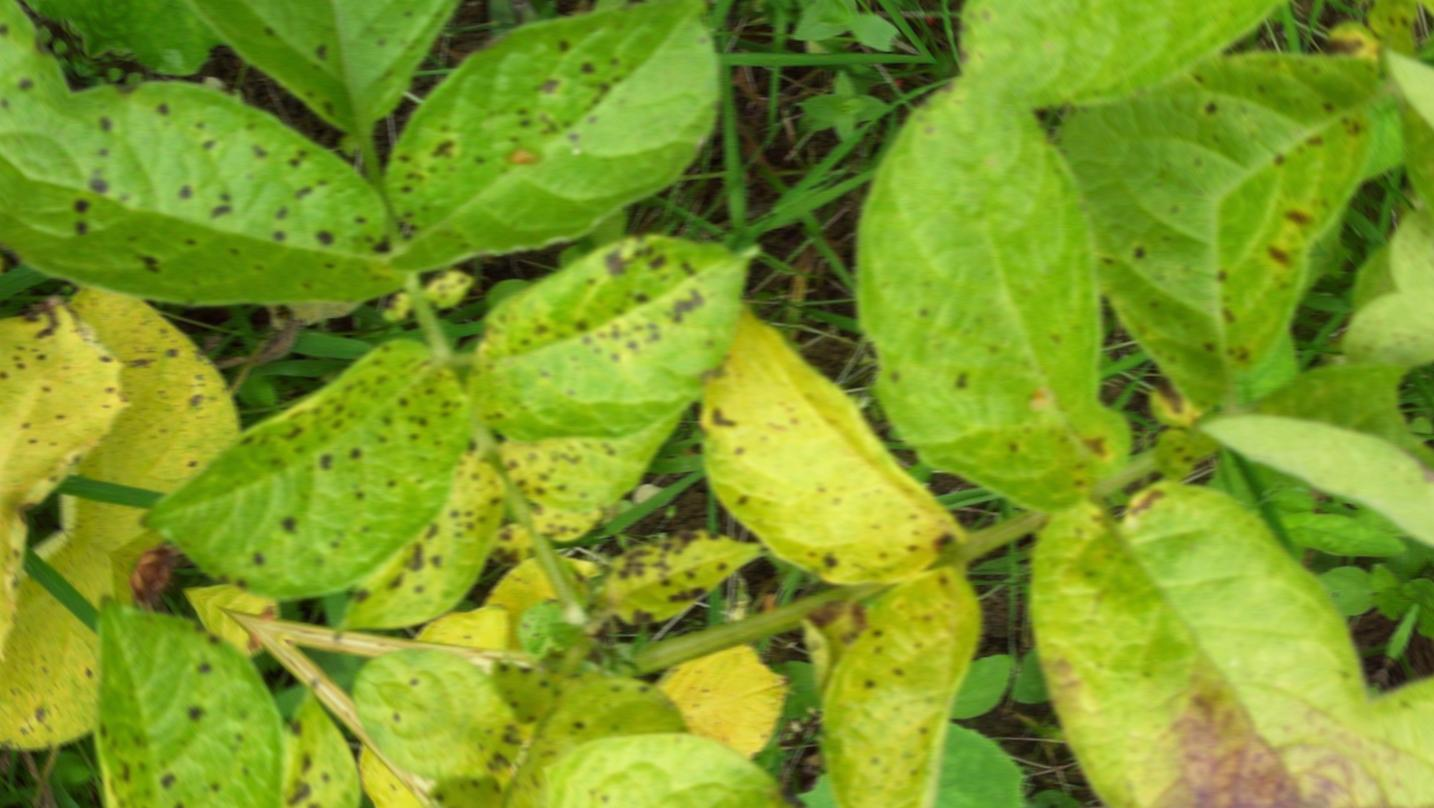Tomato Septoria leaf spot: (747, 49, 1248, 547), (142, 221, 545, 684), (348, 0, 785, 395), (0, 23, 434, 412), (431, 144, 771, 522), (624, 296, 997, 621), (748, 514, 1071, 808), (562, 474, 776, 679), (0, 264, 161, 534)
